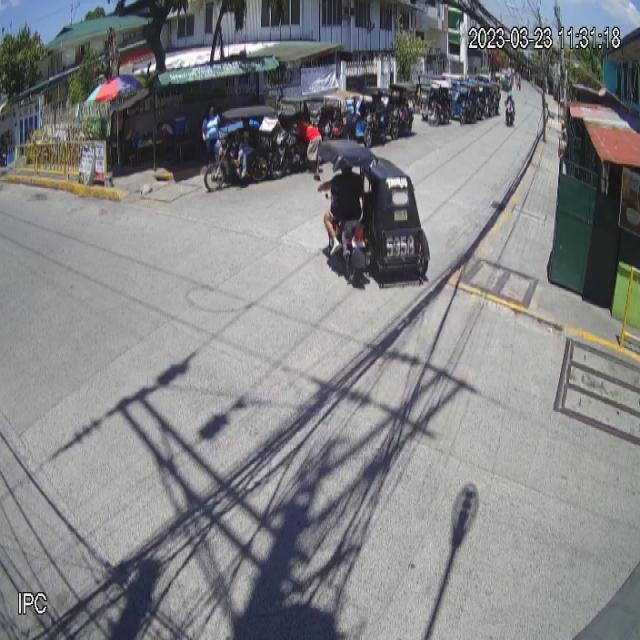Tricycle: (313, 137, 432, 289)
